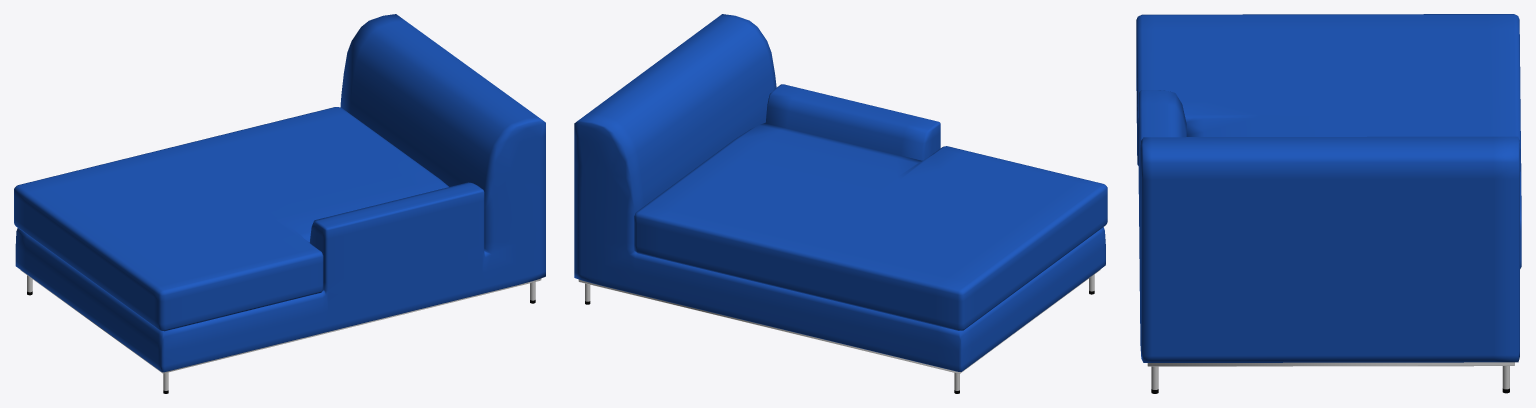
Rendered from IKEA-kramfors_right_hand_chaise_longue-3D.obj.
3 views of the same model, side by side, from view 1: azimuth 30°, elevation 25°; view 2: azimuth 150°, elevation 25°; view 3: azimuth 270°, elevation 25° (orthographic). The views are drawn at different scales.
Visible parts, largest first — view 1: Box01, Object01, Cylinder03; view 2: Object01, Box01, Cylinder03; view 3: Box01, Object01, Cylinder03.
Part boxes in pixels (<box>): Box01: <box>15,14,545,372</box>; Object01: <box>14,107,448,331</box>; Cylinder03: <box>20,270,541,393</box>; Object01: <box>634,123,1107,330</box>; Box01: <box>574,14,1105,371</box>; Cylinder03: <box>578,269,1100,393</box>; Box01: <box>1138,90,1520,362</box>; Object01: <box>1136,14,1521,268</box>; Cylinder03: <box>1147,362,1514,393</box>.
Bounding box in the file's own units: 1612 × 740 × 1066.
